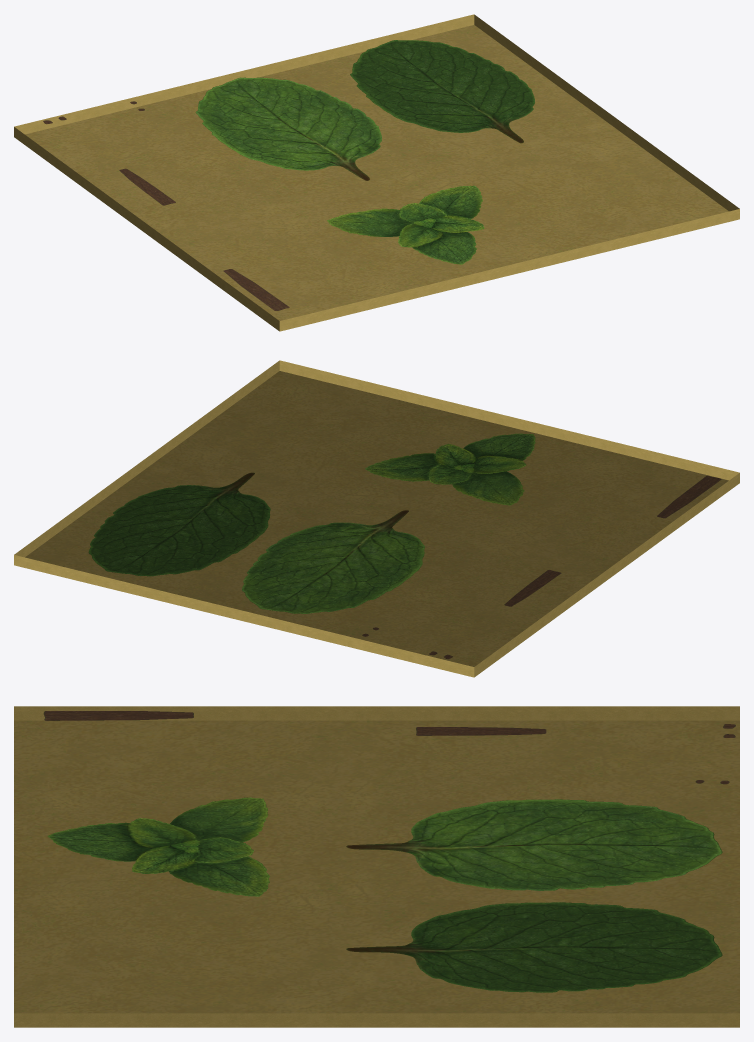
The model's file is grassland.obj.
3 views of the same model, one above another, from view 1: azimuth 30°, elevation 25°; view 2: azimuth 150°, elevation 25°; view 3: azimuth 270°, elevation 25° (orthographic). The views are drawn at different scales.
Parts seen in each view (by area): view 1: node_id9, node_id6; view 2: node_id9, node_id6; view 3: node_id9, node_id6.
Part boxes in pixels (x1,y1,x2,y2): node_id9: [14, 14, 739, 331]; node_id6: [43, 40, 534, 310]; node_id9: [14, 360, 739, 677]; node_id6: [88, 433, 721, 659]; node_id9: [14, 706, 739, 1027]; node_id6: [43, 711, 735, 992].
Size of the model in its own units: 0.2016 by 0.0044 by 0.2016.
